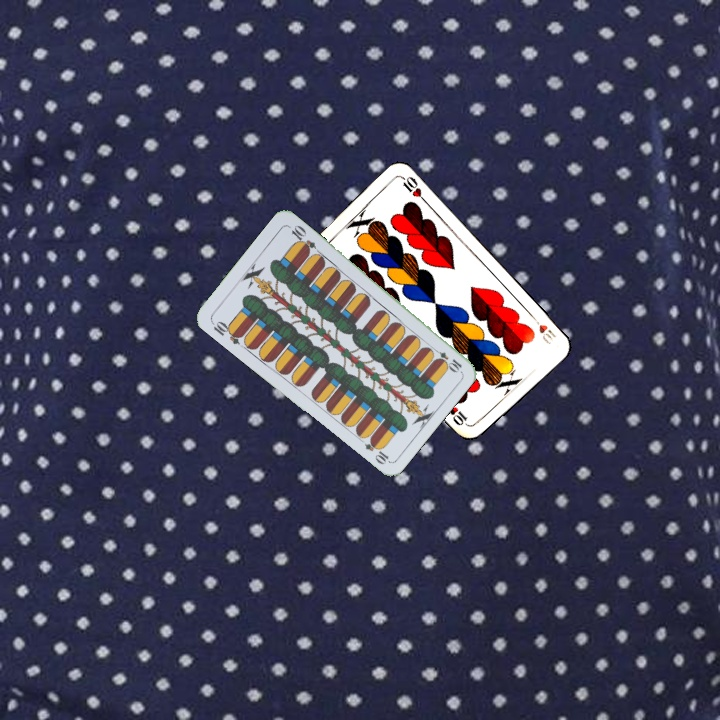E10: (207, 317, 245, 347), (428, 344, 464, 374)
H10: (527, 312, 559, 347)
